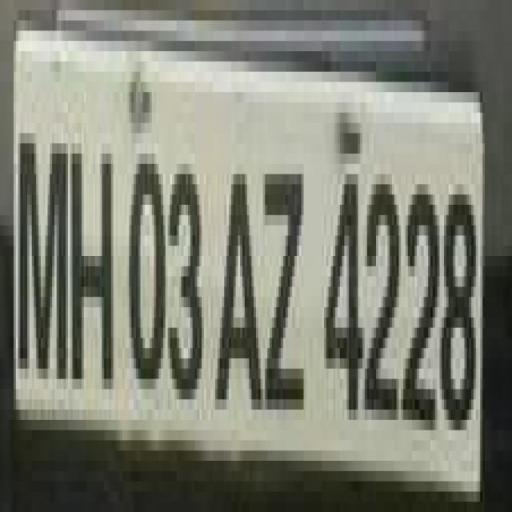number plate: (0, 30, 487, 512)
